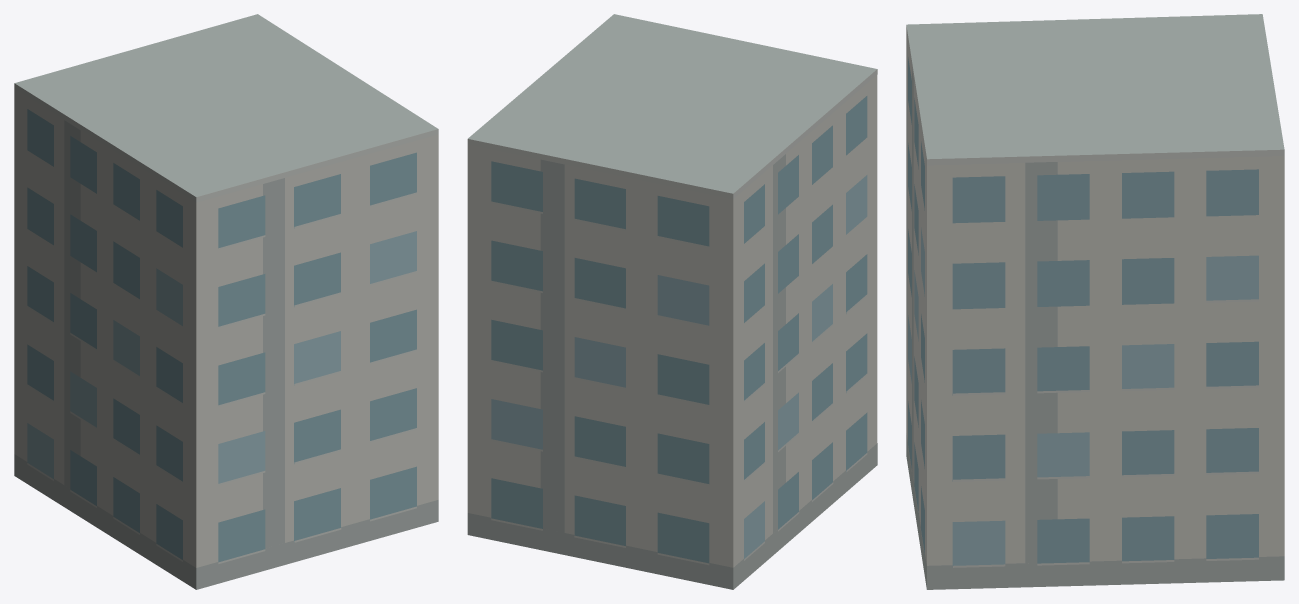
Rendered from survey-upis-32608389.glb.
The picture shows the model from 3 angles, left to right: view 1: azimuth 30°, elevation 25°; view 2: azimuth 150°, elevation 25°; view 3: azimuth 270°, elevation 25°; orthographic projection. The views are drawn at different scales.
Parts seen in each view (by area): view 1: survey-upis-32608389.tmp; view 2: survey-upis-32608389.tmp; view 3: survey-upis-32608389.tmp.
Part boxes in pixels (x1,y1,x2,y2): survey-upis-32608389.tmp: [14, 14, 438, 589]; survey-upis-32608389.tmp: [467, 14, 877, 589]; survey-upis-32608389.tmp: [906, 14, 1284, 589].
Size of the model in its own units: 12.37 by 17.1 by 13.62.
